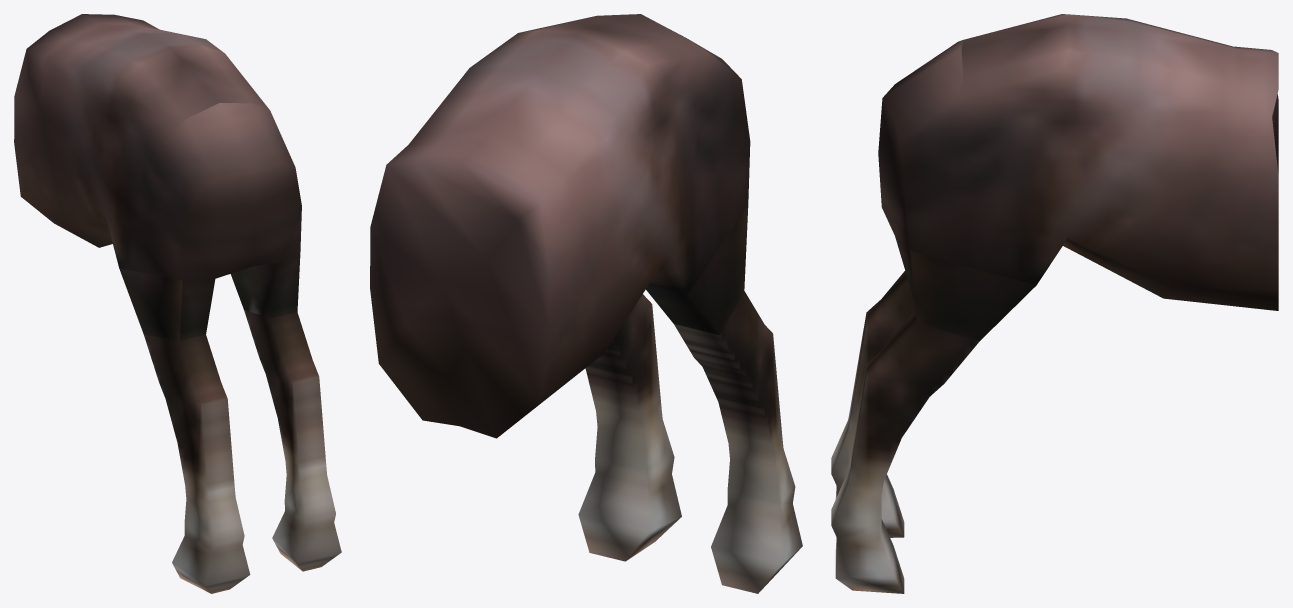
The model's file is horserdeath2.obj.
3 renders of one model, left to right at view 1: azimuth 30°, elevation 25°; view 2: azimuth 150°, elevation 25°; view 3: azimuth 270°, elevation 25°, orthographic. The views are drawn at different scales.
Parts seen in each view (by area): view 1: Cube; view 2: Cube; view 3: Cube.
Boxes of the visible parts, left/top/right/bottom form: Cube: left=14, top=14, right=341, bottom=593; Cube: left=370, top=14, right=802, bottom=593; Cube: left=831, top=14, right=1278, bottom=593.
Bounding box in the file's own units: 0.8562 × 2.47 × 1.87.
